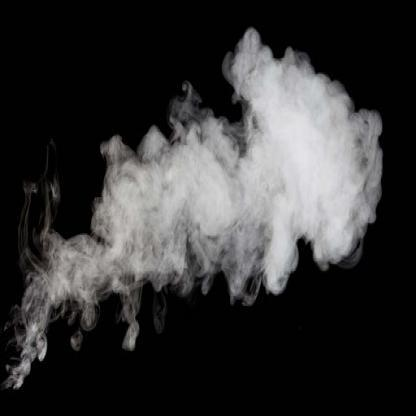smoke: (107, 65, 381, 309), (12, 226, 103, 393)
